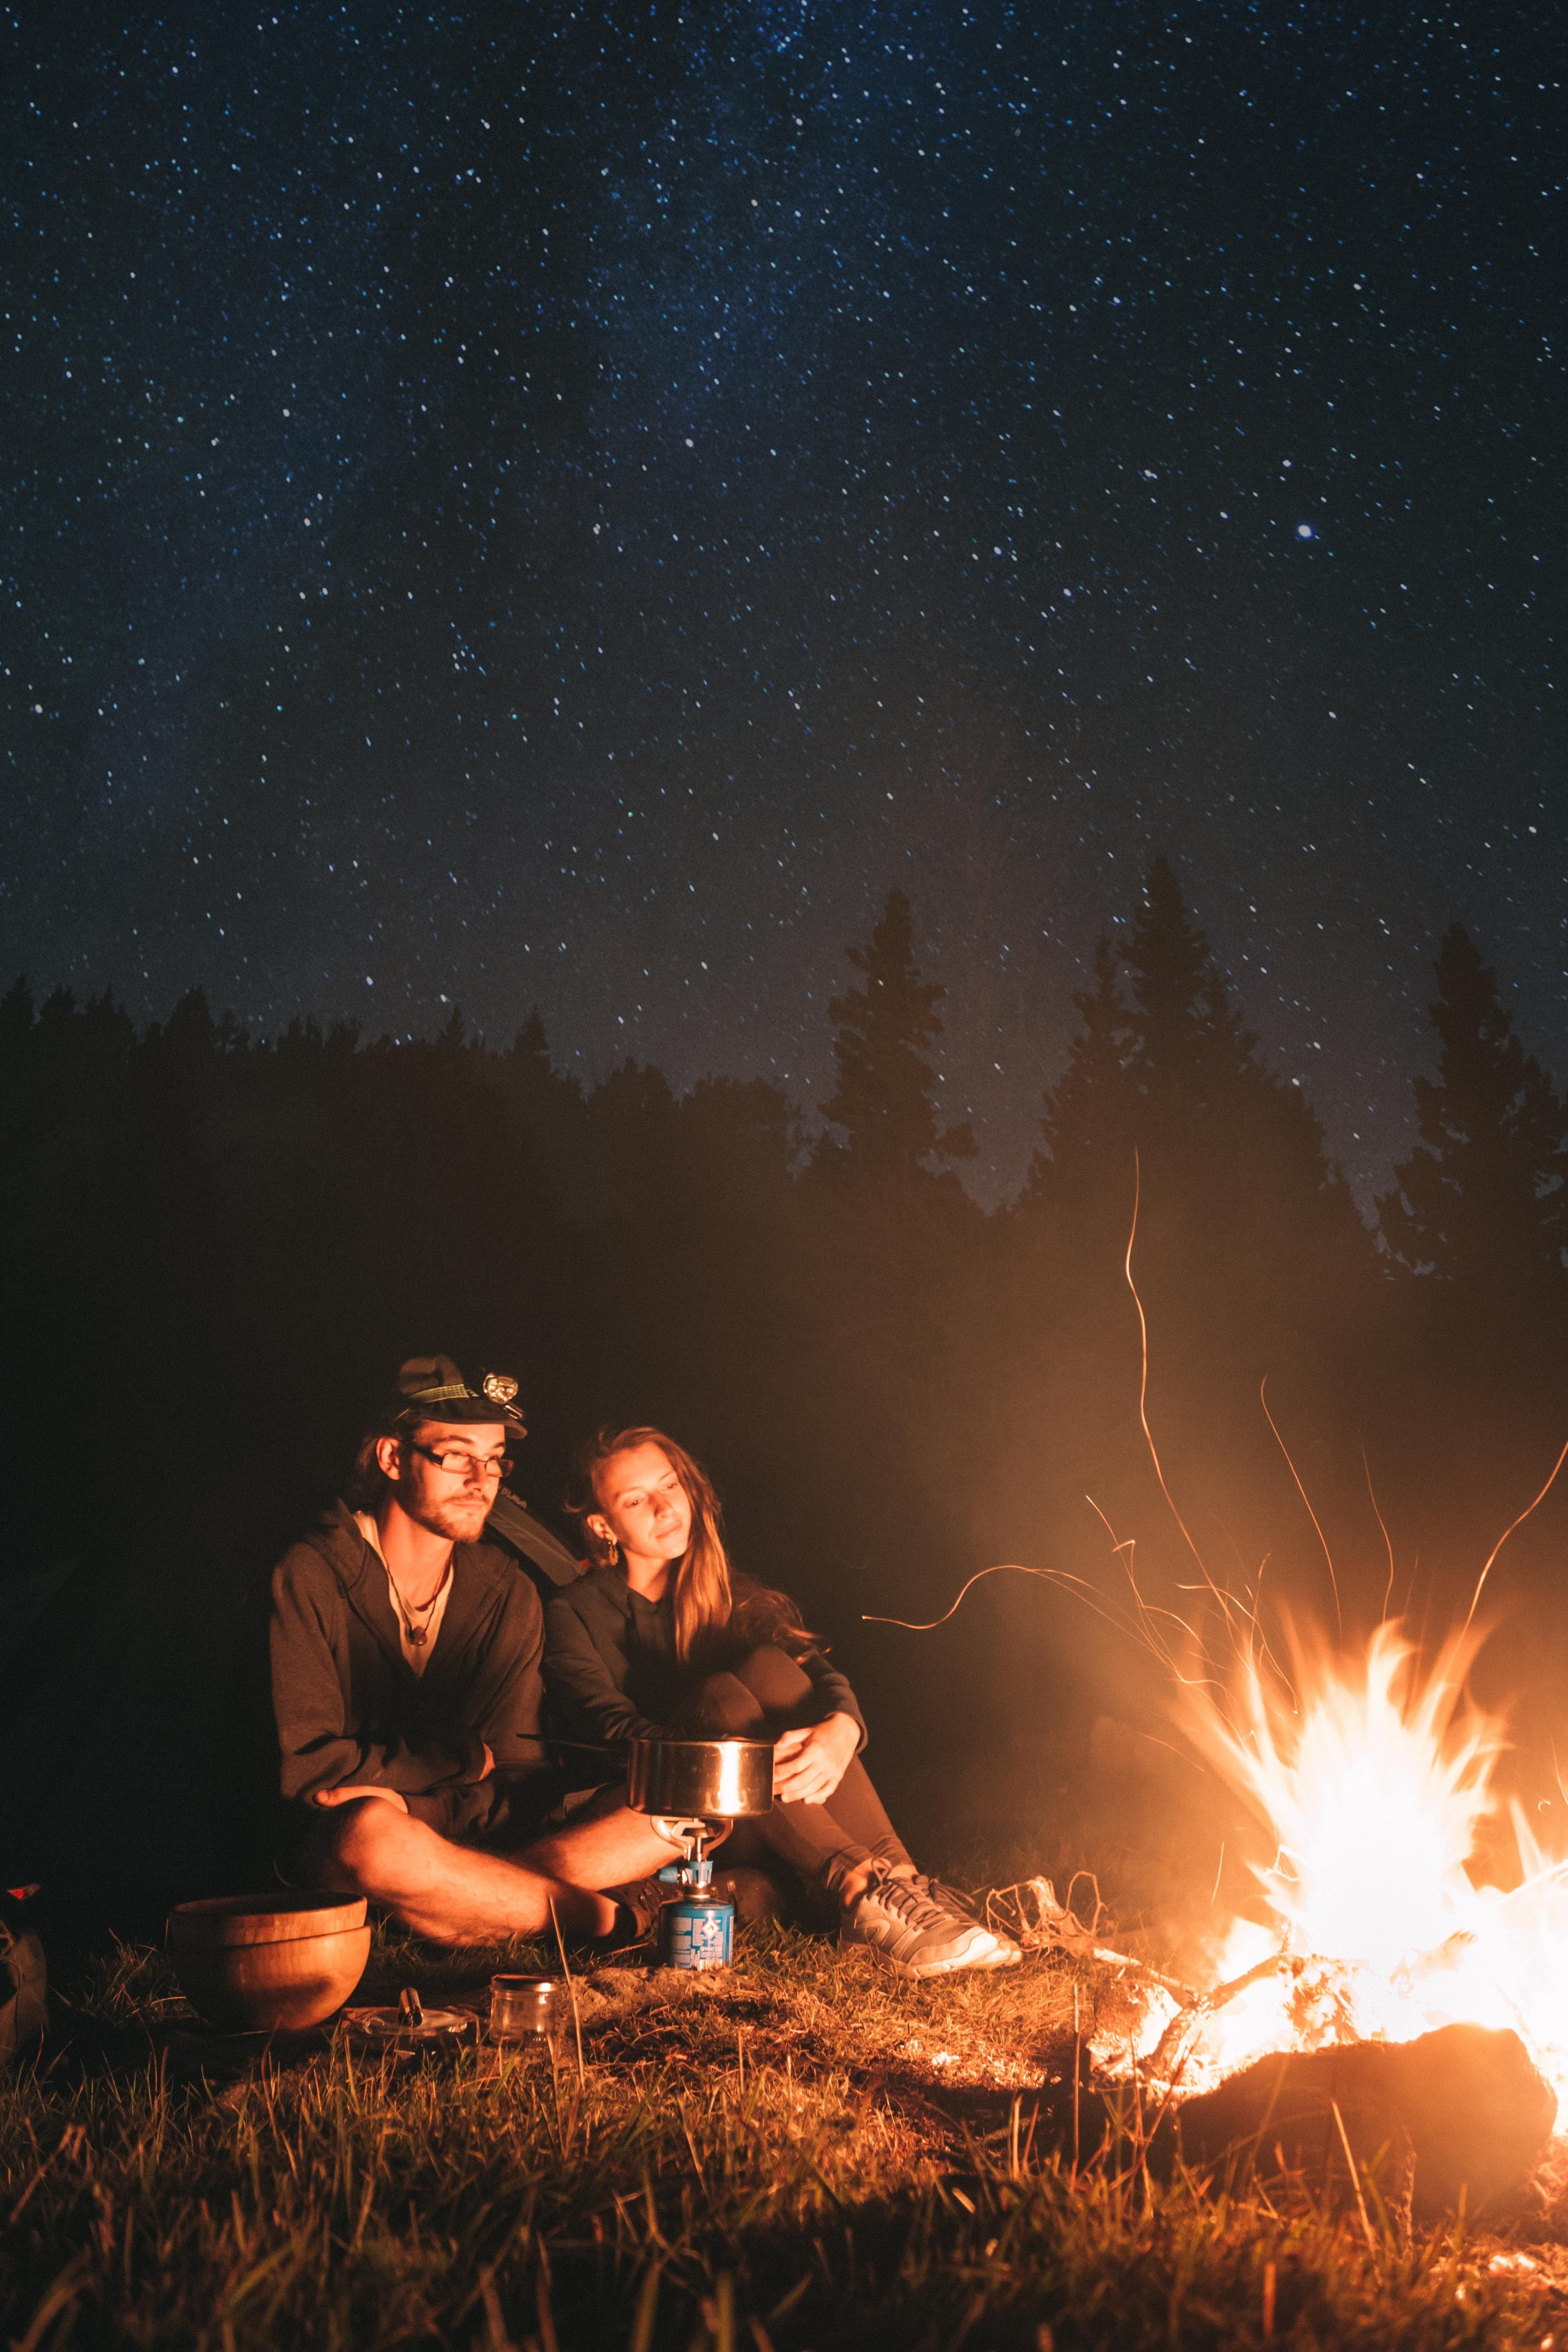fire: (1102, 1615, 1547, 2089)
